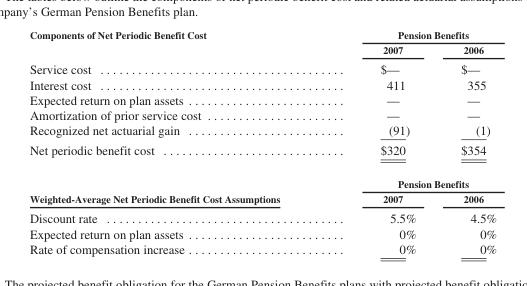table: (28, 28, 496, 255)
table column: (28, 28, 329, 255), (329, 28, 437, 255), (437, 28, 496, 255)
table column header: (28, 28, 496, 58)
table row: (28, 139, 496, 167), (28, 167, 496, 191), (28, 58, 496, 76), (28, 207, 496, 225), (28, 122, 496, 139), (28, 42, 496, 58), (28, 106, 496, 122), (28, 191, 496, 207), (28, 76, 496, 91), (28, 91, 496, 106), (28, 225, 496, 240), (28, 240, 496, 255), (28, 28, 496, 42)
table spanning cell: (28, 28, 329, 58), (329, 167, 496, 191), (329, 28, 496, 42)
